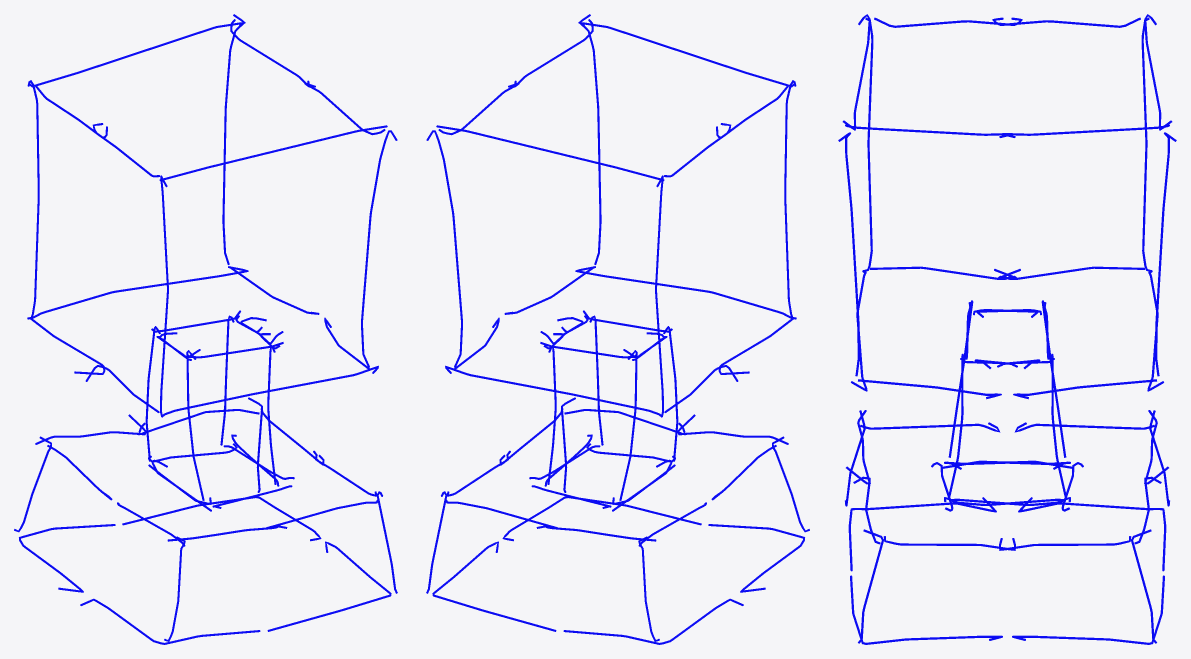
File: cassie_p11_lamp.glb
3 renders of one model, left to right at view 1: azimuth 30°, elevation 25°; view 2: azimuth 150°, elevation 25°; view 3: azimuth 270°, elevation 25°, orthographic. The views are drawn at different scales.
Visible parts, largest first — view 1: cassie_p11_lamp; view 2: cassie_p11_lamp; view 3: cassie_p11_lamp.
Part boxes in pixels (x1=…): cassie_p11_lamp: x1=14, y1=14, x2=397, y2=644; cassie_p11_lamp: x1=426, y1=14, x2=809, y2=644; cassie_p11_lamp: x1=838, y1=14, x2=1176, y2=644.
Bounding box in the file's own units: 0.5667 × 1 × 0.5953.
